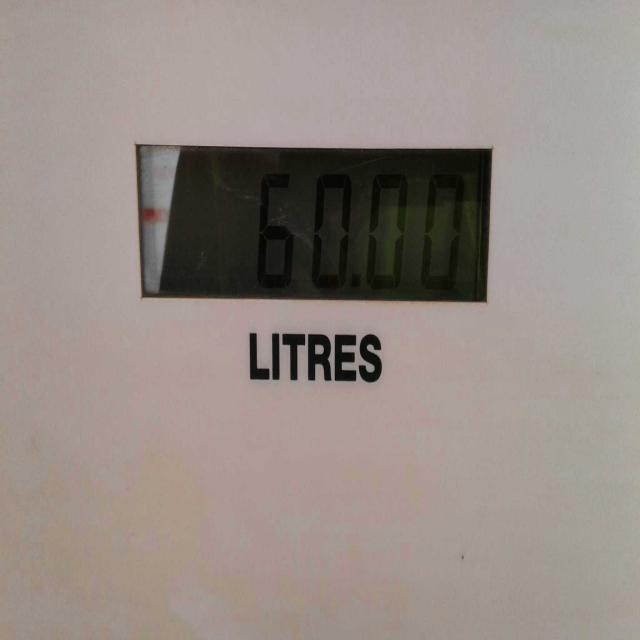.: (347, 261, 362, 299)
0: (417, 154, 470, 303), (364, 166, 412, 290), (307, 173, 351, 286)
6: (246, 168, 308, 285)
